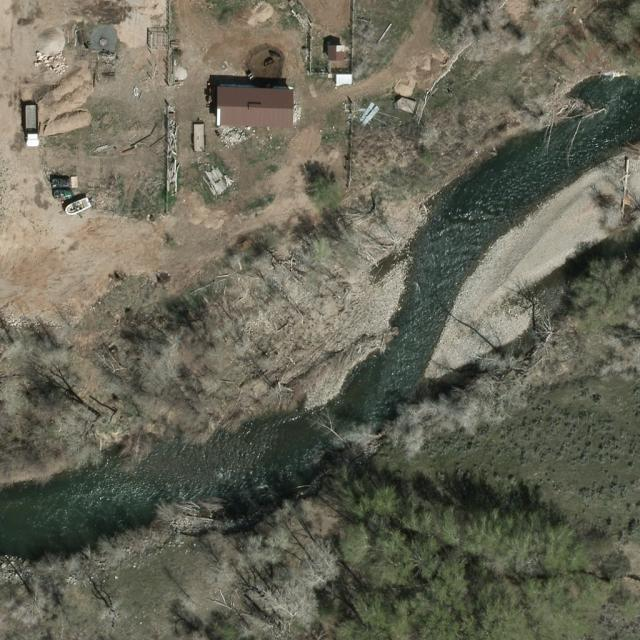vehicle: (25, 104, 41, 146)
